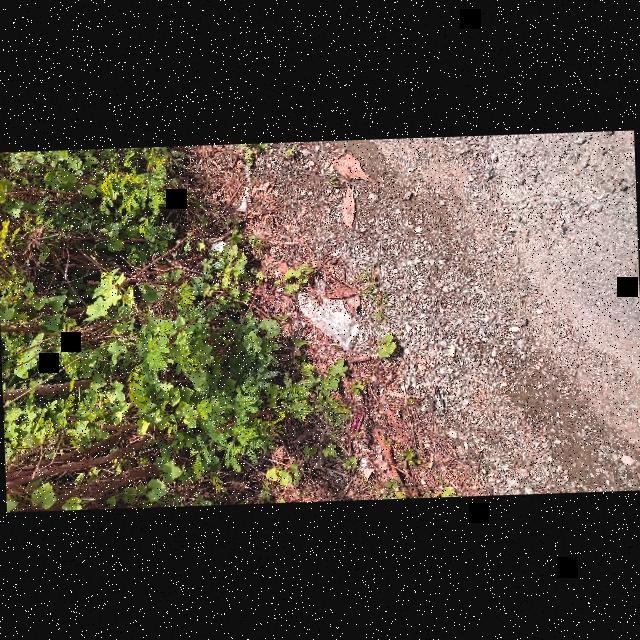plastic_bag: (288, 272, 362, 352)
